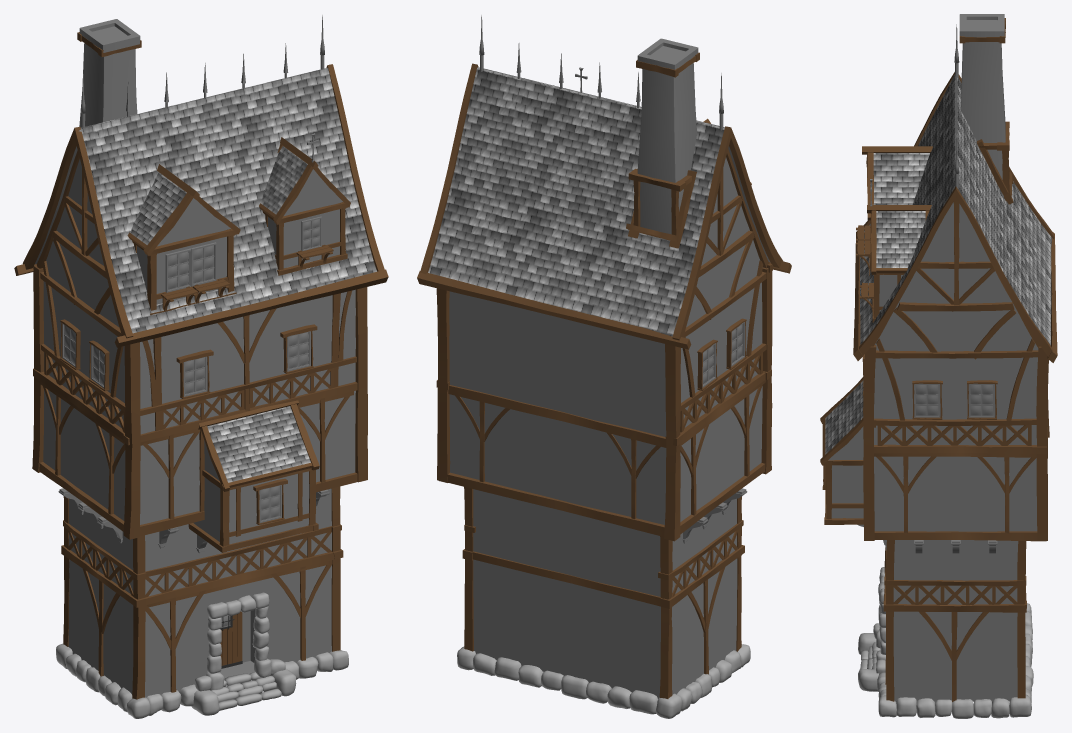
Rendered from SM_house_02.fbx.
3 views of the same model, side by side, from view 1: azimuth 30°, elevation 25°; view 2: azimuth 150°, elevation 25°; view 3: azimuth 270°, elevation 25° (orthographic). The views are drawn at different scales.
Visible parts, largest first — view 1: Object32588; view 2: Object32588; view 3: Object32588.
Part boxes in pixels (bbox=[...]): Object32588: bbox=[14, 15, 388, 718]; Object32588: bbox=[417, 15, 791, 718]; Object32588: bbox=[820, 14, 1057, 718].
Size of the model in its own units: 353 by 813 by 285.
Materials: 8 (1 with a texture image).
